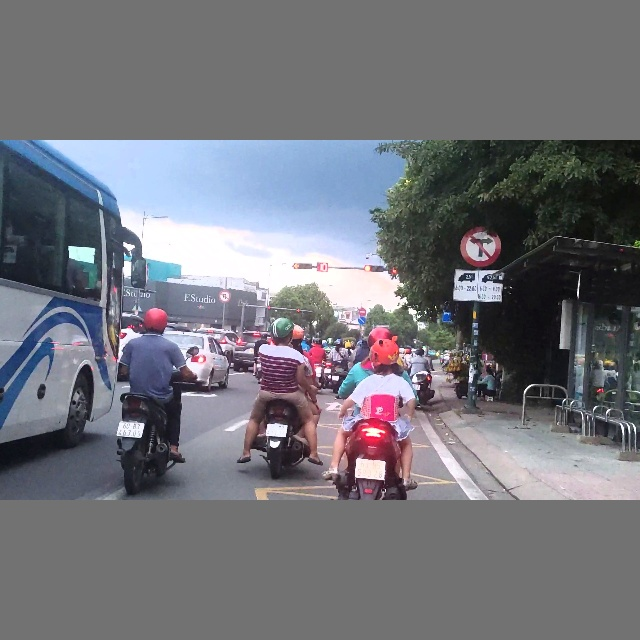P.102: (358, 308, 367, 316)
P.124a*: (218, 290, 231, 302)
P.137: (460, 226, 502, 268)
R.302a: (358, 316, 366, 325)
S.505a*Xe tai: (452, 269, 504, 303)
